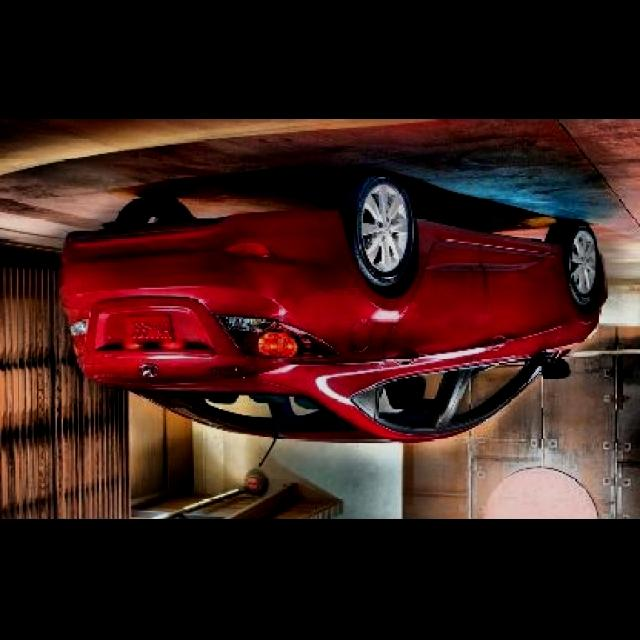red: (60, 175, 608, 449)
